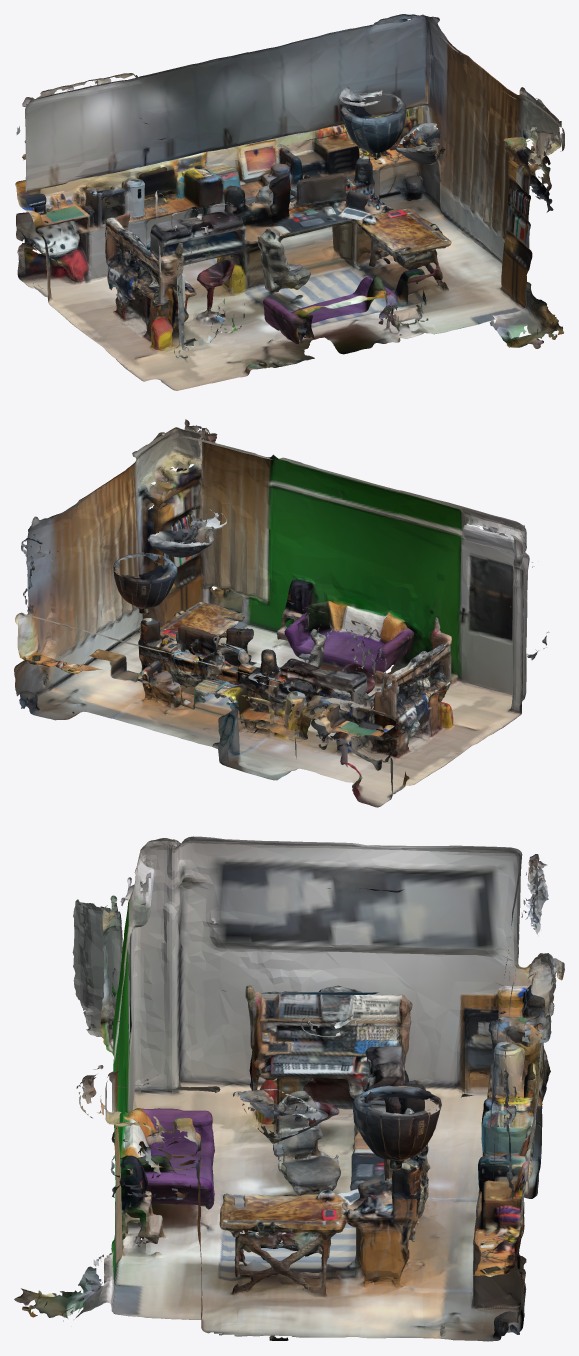
File: room-mesh-mobile.glb
The picture shows the model from 3 angles, top to bottom: view 1: azimuth 30°, elevation 25°; view 2: azimuth 150°, elevation 25°; view 3: azimuth 270°, elevation 25°; orthographic projection. The views are drawn at different scales.
Parts seen in each view (by area): view 1: mesh; view 2: mesh; view 3: mesh.
Part boxes in pixels (x1=…): mesh: x1=15, y1=14, x2=564, y2=390; mesh: x1=14, y1=419, x2=549, y2=807; mesh: x1=14, y1=836, x2=564, y2=1341.
Size of the model in its own units: 6 by 2.89 by 5.27.
1 material, 1 textured.
